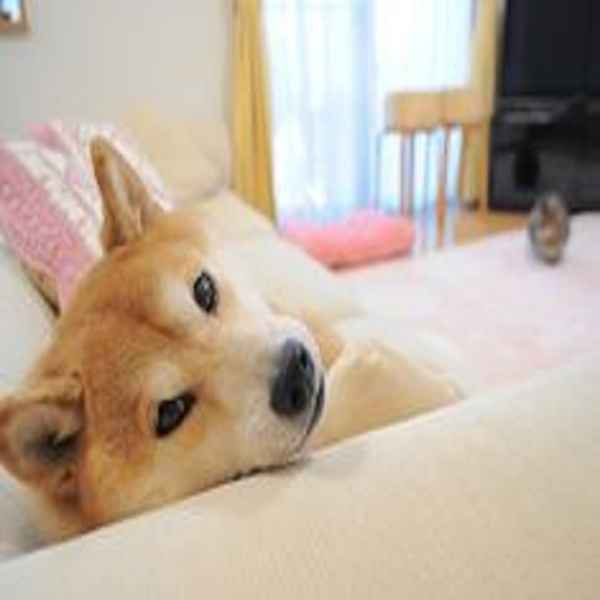doge: (13, 204, 339, 500)
